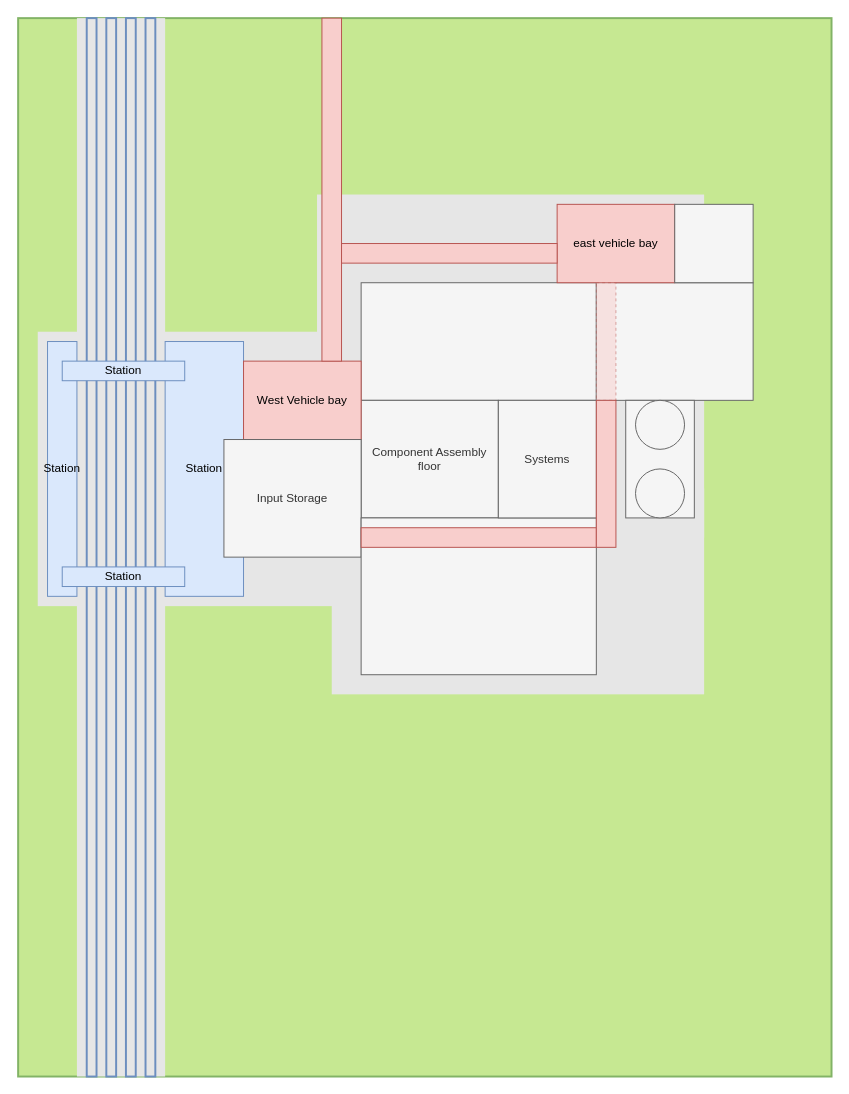
This 849x1094 diagram has some shape labels left out. Here are the shapes that lost their labels. From the top down, the box of each, then its label:
(674, 203, 753, 283): Vehicle Storage
(360, 282, 596, 400): Main Factory Floor
(595, 282, 753, 400): Output Storage
(625, 399, 694, 518): Tanks
(360, 517, 596, 675): Space Port
